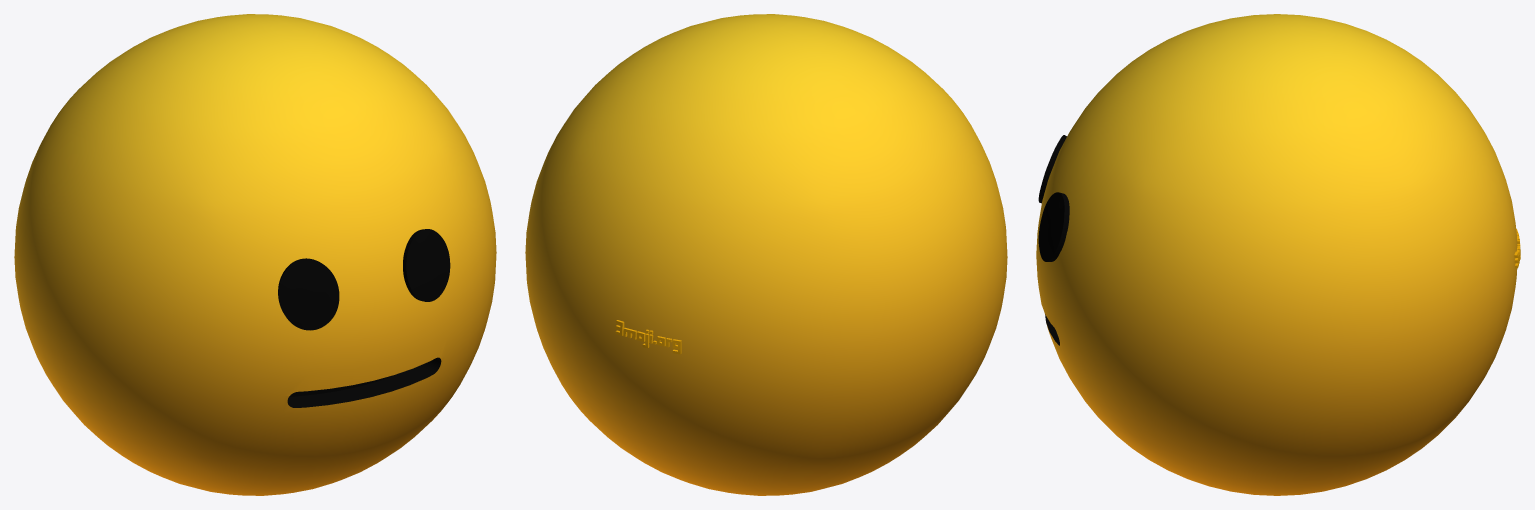
Rendered from neutral_face.glb.
3 renders of one model, left to right at view 1: azimuth 30°, elevation 25°; view 2: azimuth 150°, elevation 25°; view 3: azimuth 270°, elevation 25°, orthographic.
Visible parts, largest first — view 1: Neutral Face; view 2: Neutral Face; view 3: Neutral Face.
Part boxes in pixels (left/top/right/bottom): Neutral Face: left=14, top=14, right=496, bottom=495; Neutral Face: left=525, top=14, right=1007, bottom=495; Neutral Face: left=1036, top=14, right=1520, bottom=495.
Bounding box in the file's own units: 1.69 × 1.69 × 1.7.
Materials: 1 (1 with a texture image).
